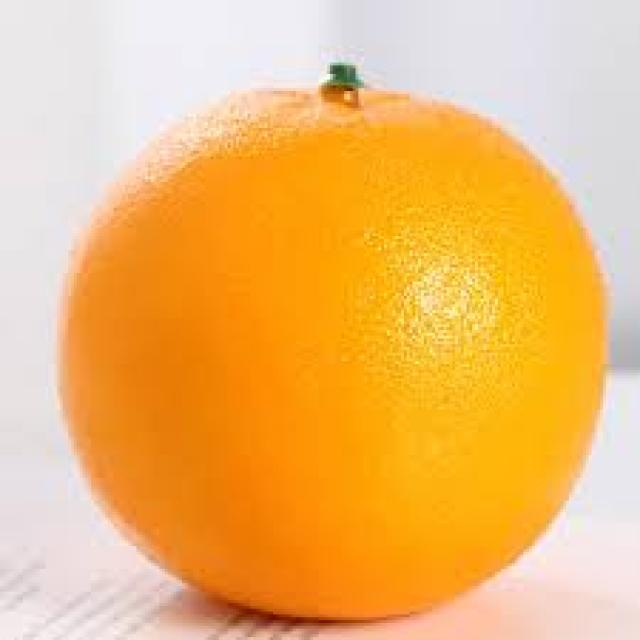orange: (59, 68, 640, 626)
